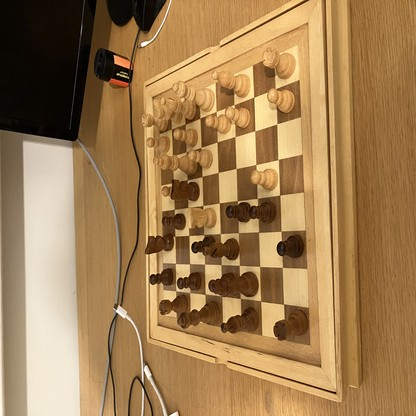bishop_black: (221, 308, 259, 334), (203, 239, 239, 260)
bishop_white: (212, 71, 251, 97), (160, 97, 196, 119)
king_black: (214, 271, 259, 297)
king_white: (153, 155, 198, 175)
knight_black: (171, 179, 200, 200), (146, 235, 173, 254)
knight_white: (153, 98, 182, 123), (188, 207, 217, 229)
pawn_black: (278, 236, 303, 259), (249, 203, 275, 222), (226, 203, 250, 221), (177, 272, 201, 289), (162, 214, 187, 230), (192, 236, 214, 254), (150, 269, 174, 285)
pawn_white: (268, 90, 295, 113), (251, 169, 278, 190), (225, 107, 251, 128), (205, 116, 232, 135), (189, 150, 213, 169), (174, 128, 197, 147), (147, 137, 170, 152)
queen_black: (178, 302, 219, 330)
queen_white: (172, 80, 214, 112)
rock_black: (274, 310, 308, 340), (159, 295, 187, 315)
rock_white: (262, 47, 296, 79), (142, 113, 167, 130)
